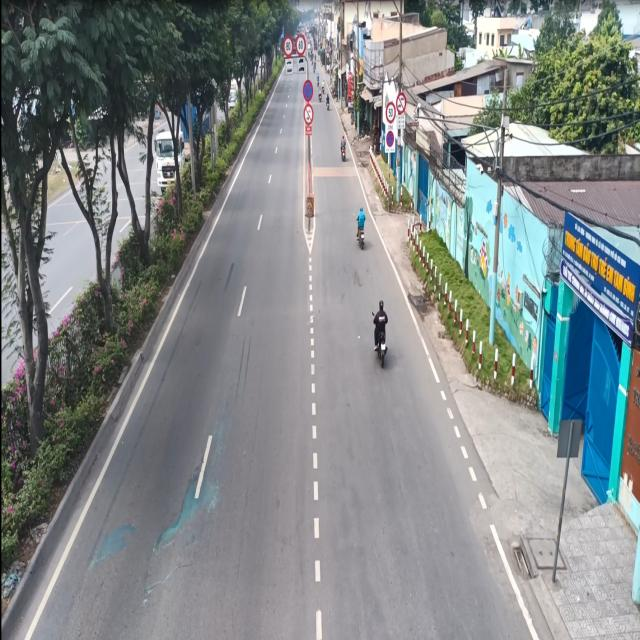motor: (369, 296, 392, 374), (354, 192, 368, 253), (337, 130, 350, 166)
